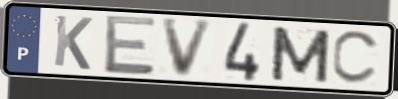4: (222, 20, 263, 84)
C: (329, 29, 383, 87)
E: (103, 13, 159, 77)
K: (51, 13, 95, 73)
M: (268, 24, 333, 85)
V: (160, 18, 217, 80)
